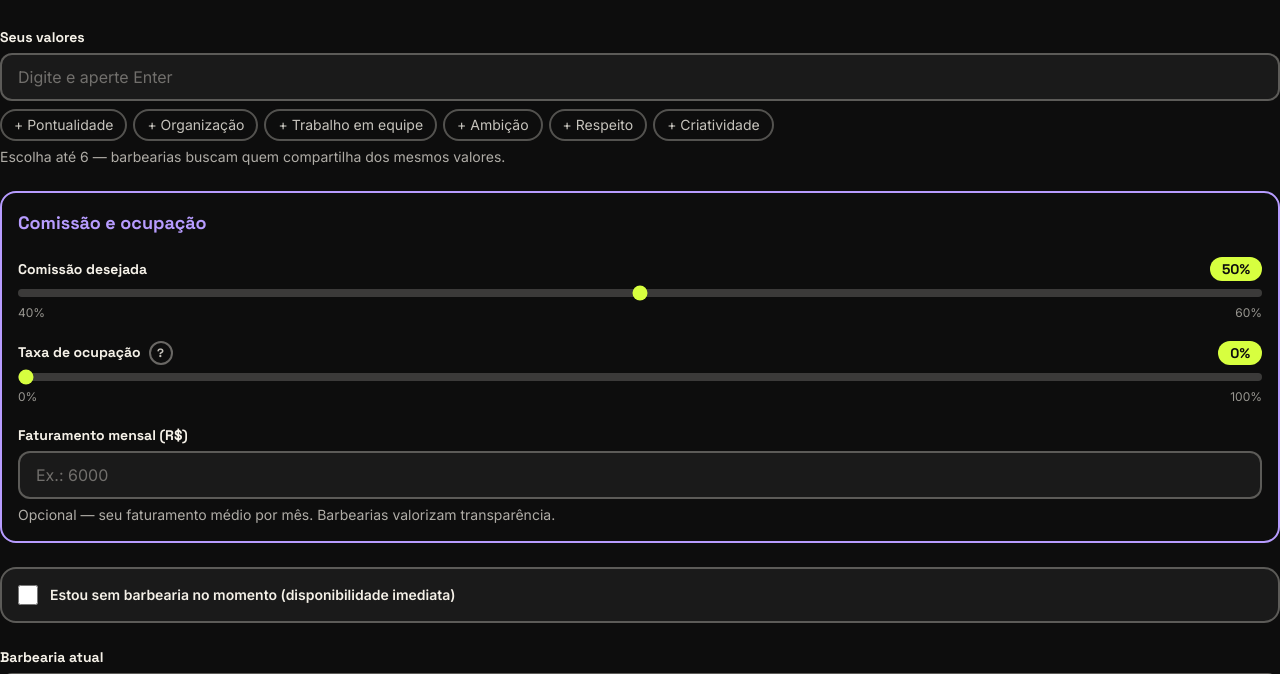
Sliders de comissão e ocupação (B02) › botão (?) revela a explicação da taxa de ocupação (RF26)
This screenshot has width=1280, height=674.
(page scrolled)
Click the button named "mais informações sobre taxa de ocupação": {"x": 160, "y": 353} [148,341,172,365]
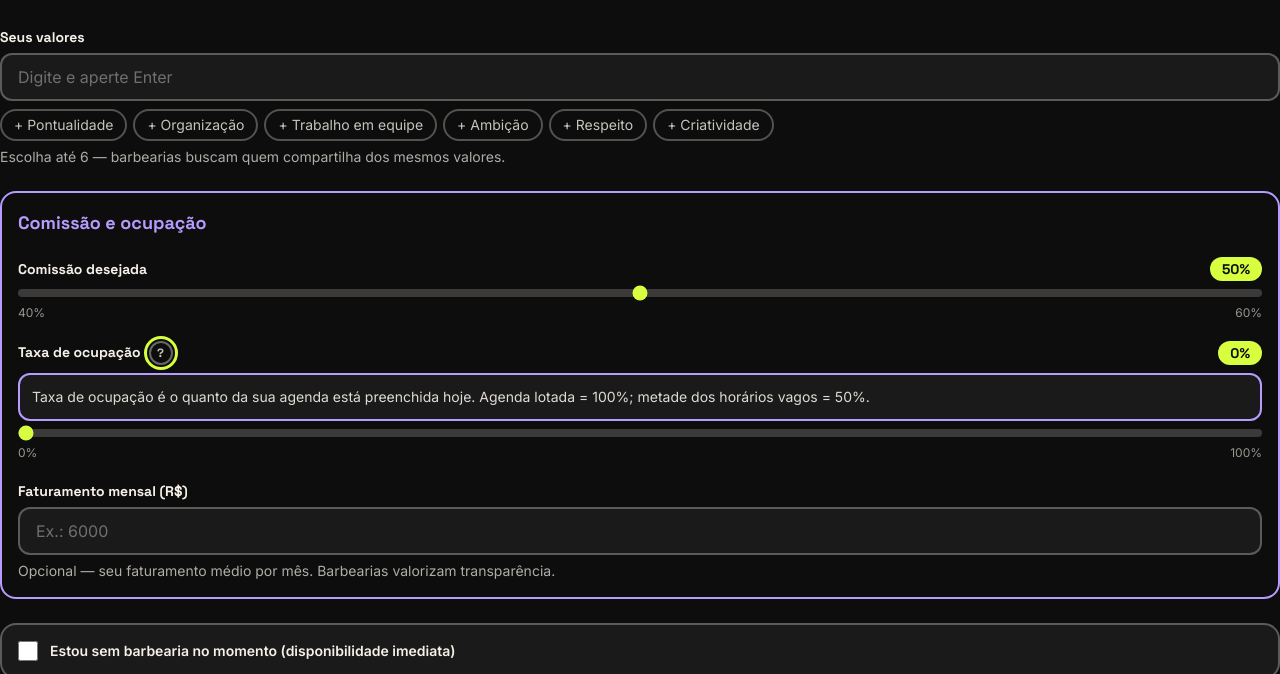
Expected: the button named "mais informações sobre taxa de ocupação" is expanded, [148,341,172,365]
Expected: the text "quanto da sua agenda está preenchida" is shown, [32,388,870,405]
